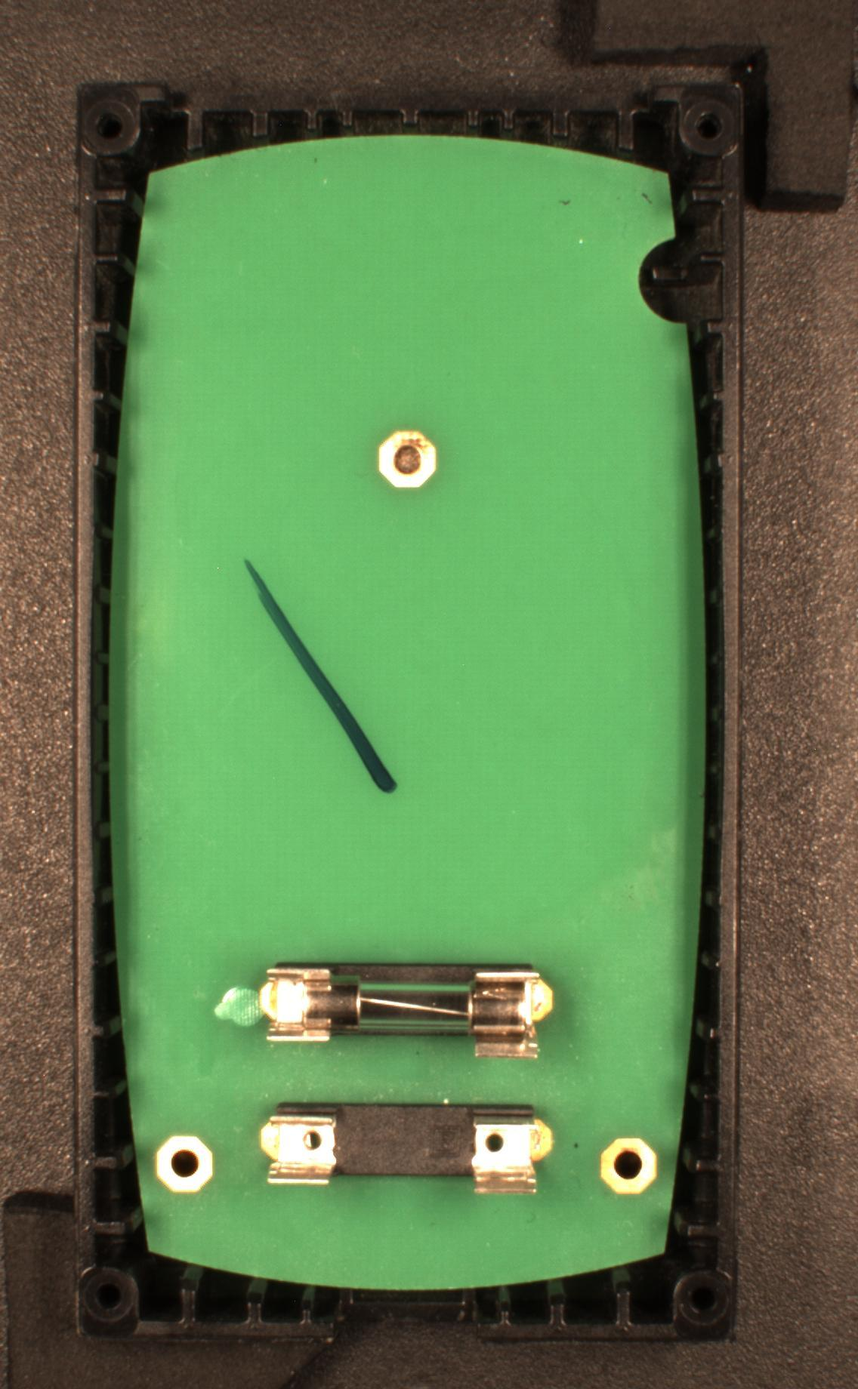Linijsko Ostecene: (241, 556, 403, 798)
Nepostojanje osiguraca: (259, 1100, 556, 1196)
